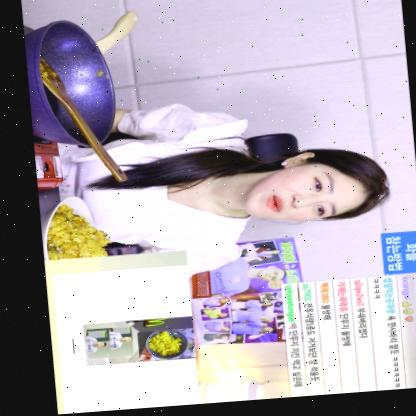streamer: (52, 94, 394, 287)
